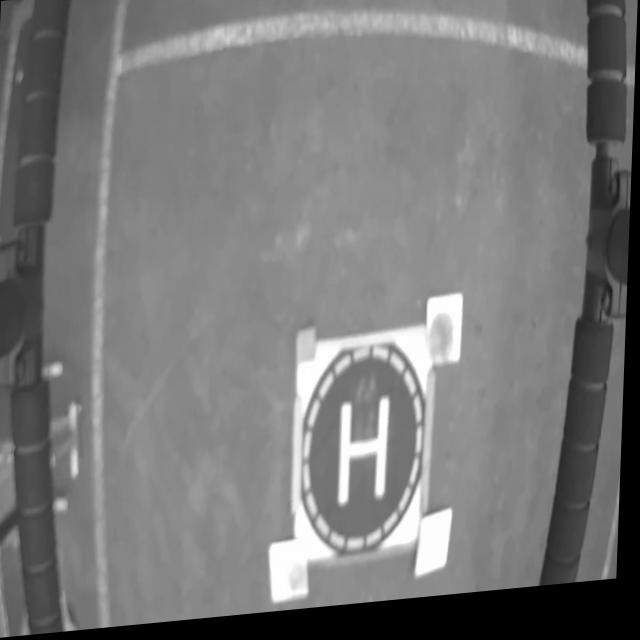Helipad: (341, 404, 392, 514)
